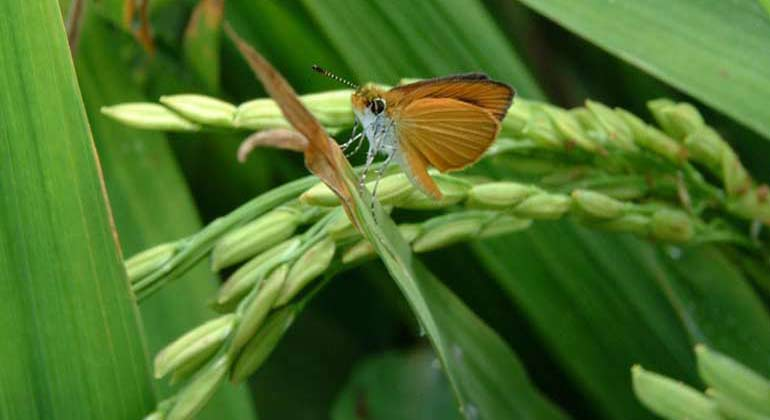Rice_skipper: (341, 67, 521, 193)
